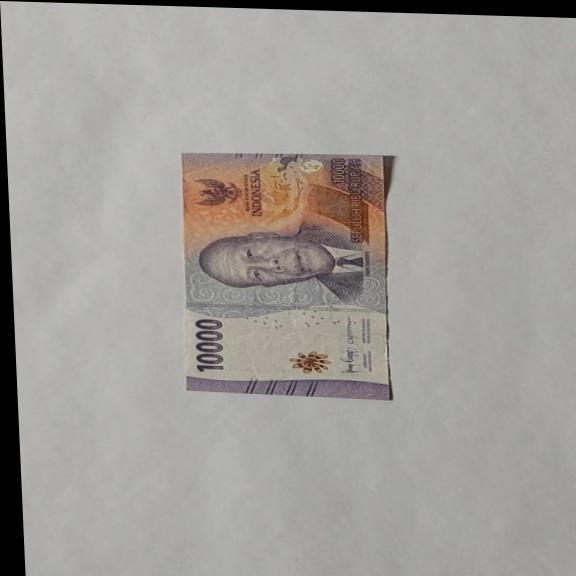Kertas: (173, 147, 400, 400), (190, 317, 227, 373)
